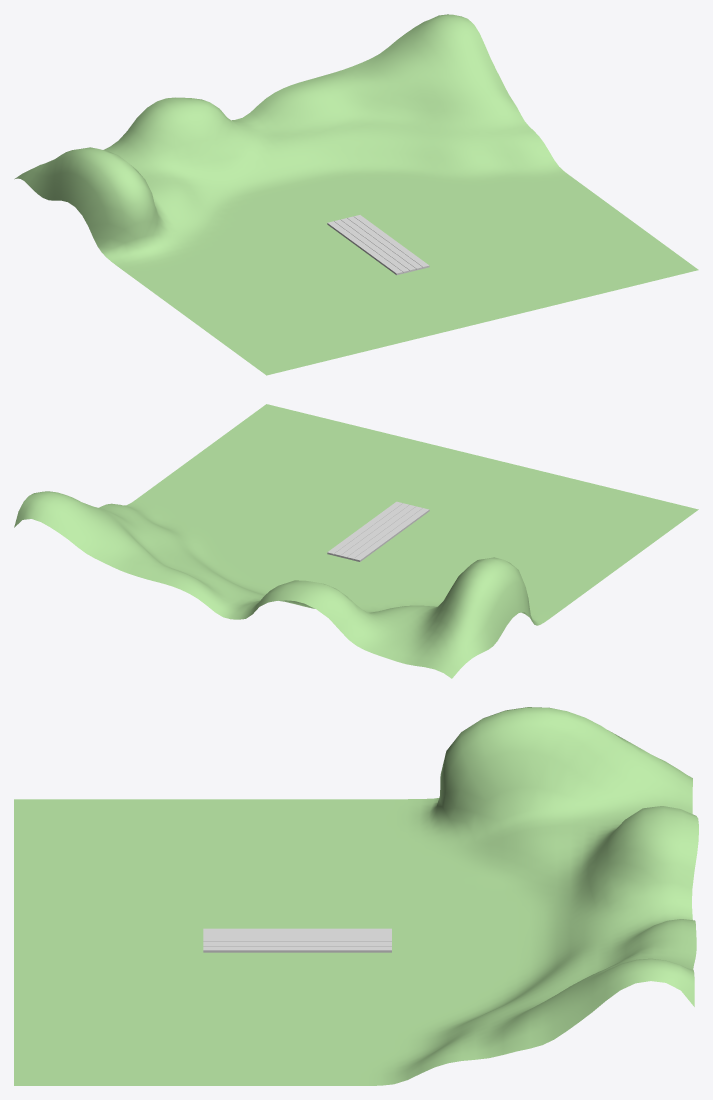
The picture shows the model from 3 angles, top to bottom: view 1: azimuth 30°, elevation 25°; view 2: azimuth 150°, elevation 25°; view 3: azimuth 270°, elevation 25°; orthographic projection. The views are drawn at different scales.
Parts seen in each view (by area): view 1: pPlane3, pCube1; view 2: pPlane3, pCube1; view 3: pPlane3, pCube1.
Boxes of the visible parts, x1,y1,x2,y2 form: pPlane3: [14, 14, 698, 375]; pCube1: [327, 215, 429, 275]; pPlane3: [14, 404, 698, 678]; pCube1: [327, 501, 429, 561]; pPlane3: [14, 707, 698, 1085]; pCube1: [203, 928, 391, 952].
Size of the model in its own units: 271 by 47.99 by 265.
